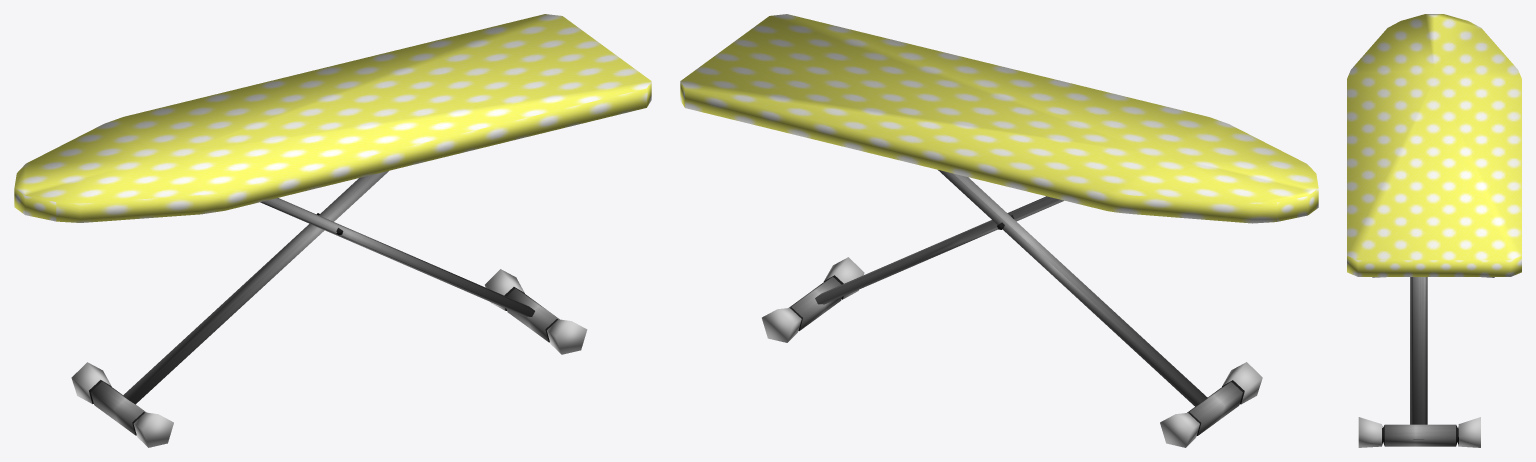
The model's file is Ironing_Board_C.FBX.
3 renders of one model, left to right at view 1: azimuth 30°, elevation 25°; view 2: azimuth 150°, elevation 25°; view 3: azimuth 270°, elevation 25°, orthographic. The views are drawn at different scales.
Visible parts, largest first — view 1: Ironing_Board; view 2: Ironing_Board; view 3: Ironing_Board.
Boxes of the visible parts, x1=… form: Ironing_Board: x1=14, y1=14, x2=651, y2=447; Ironing_Board: x1=680, y1=14, x2=1318, y2=447; Ironing_Board: x1=1347, y1=14, x2=1521, y2=447.
Bounding box in the file's own units: 317 × 130 × 95.
